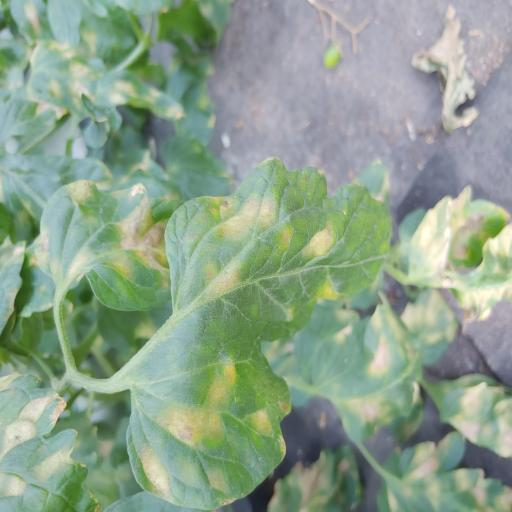disease_tomato: (126, 154, 394, 512), (34, 182, 180, 312)
